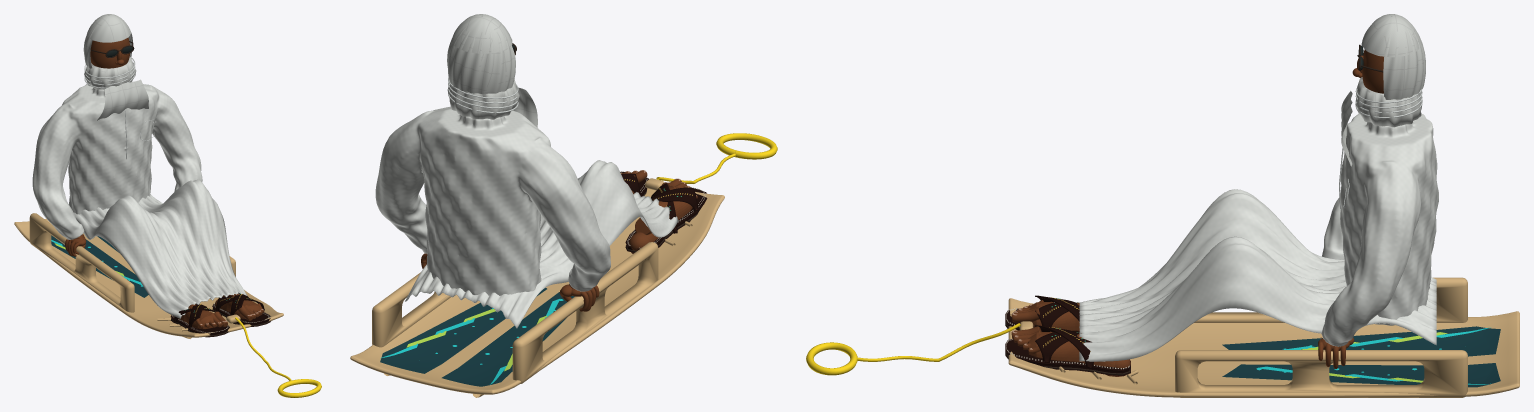
Rendered from Sled_Sandal_Rider.glb.
3 renders of one model, left to right at view 1: azimuth 30°, elevation 25°; view 2: azimuth 150°, elevation 25°; view 3: azimuth 270°, elevation 25°, orthographic. The views are drawn at different scales.
Visible parts, largest first — view 1: Rider_Thobe ivory cotton, Sled_Warm sand molded polymer, Rider_White woven ghutra, Rider_Warm medium skin, Rider_Brown embroidered sandal leather, Sled_Midnight graphic, Pull handle, Rider_Cotton seams, Rider_Dark brown hair and beard; view 2: Rider_Thobe ivory cotton, Sled_Warm sand molded polymer, Rider_White woven ghutra, Sled_Midnight graphic, Rider_Warm medium skin, Rider_Brown embroidered sandal leather, Pull handle, Rider_Cotton seams, Sled_Turquoise ink, Sled_Lime ink; view 3: Rider_Thobe ivory cotton, Sled_Warm sand molded polymer, Sled_Midnight graphic, Rider_White woven ghutra, Rider_Warm medium skin, Rider_Brown embroidered sandal leather, Pull handle, Rider_Cotton seams, Sled_Turquoise ink, Tow rope.
Boxes of the visible parts, box(x1,y1,x2,y2) form: Rider_Thobe ivory cotton: box(32, 81, 247, 318); Sled_Warm sand molded polymer: box(14, 213, 283, 338); Rider_White woven ghutra: box(83, 14, 148, 120); Rider_Warm medium skin: box(65, 38, 264, 329); Rider_Brown embroidered sandal leather: box(170, 292, 270, 337); Sled_Midnight graphic: box(51, 235, 148, 297); Pull handle: box(277, 379, 321, 397); Rider_Cotton seams: box(84, 57, 154, 159); Rider_Dark brown hair and beard: box(91, 41, 270, 336); Rider_Thobe ivory cotton: box(375, 106, 678, 328); Sled_Warm sand molded polymer: box(350, 173, 724, 397); Rider_White woven ghutra: box(447, 14, 537, 127); Sled_Midnight graphic: box(380, 287, 574, 386); Rider_Warm medium skin: box(421, 170, 697, 311); Rider_Brown embroidered sandal leather: box(620, 171, 707, 252); Pull handle: box(716, 133, 777, 159); Rider_Cotton seams: box(448, 77, 518, 113); Sled_Turquoise ink: box(380, 299, 563, 384); Sled_Lime ink: box(406, 309, 546, 371); Rider_Thobe ivory cotton: box(1079, 113, 1438, 361); Sled_Warm sand molded polymer: box(1008, 277, 1519, 397); Sled_Midnight graphic: box(1222, 326, 1500, 387); Rider_White woven ghutra: box(1341, 14, 1425, 166); Rider_Warm medium skin: box(1011, 49, 1383, 376); Rider_Brown embroidered sandal leather: box(1005, 295, 1130, 376); Pull handle: box(806, 342, 857, 375); Rider_Cotton seams: box(1339, 88, 1422, 208); Sled_Turquoise ink: box(1256, 327, 1490, 384); Tow rope: box(857, 323, 1020, 361).
Size of the model in its own units: 0.6427 by 0.9255 by 1.68.
18 materials, 4 textured.
